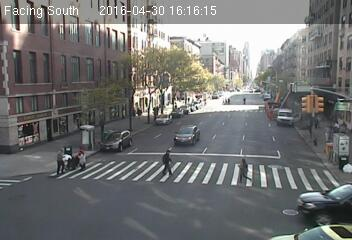neg: (311, 188, 330, 214), (183, 124, 201, 148), (283, 104, 300, 127), (121, 102, 137, 123), (41, 127, 56, 146), (182, 93, 194, 109), (232, 120, 241, 132)
pos: (233, 154, 255, 183), (50, 148, 70, 174), (158, 148, 177, 173), (75, 147, 90, 168), (96, 117, 108, 132)
